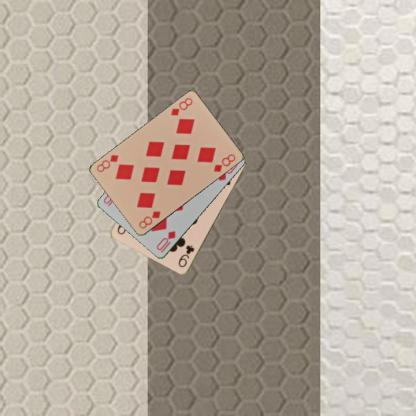10d: (154, 228, 176, 254)
8d: (136, 209, 162, 231), (168, 96, 194, 118)
9c: (176, 242, 196, 268)
